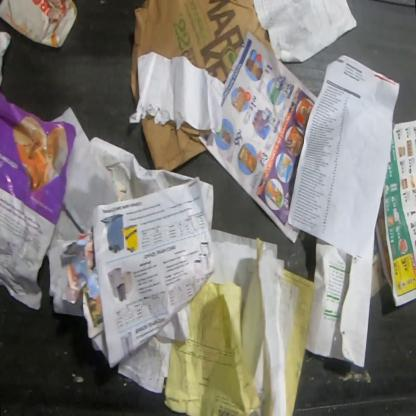cardboard: (129, 0, 277, 106), (140, 113, 209, 172), (0, 0, 79, 46)
